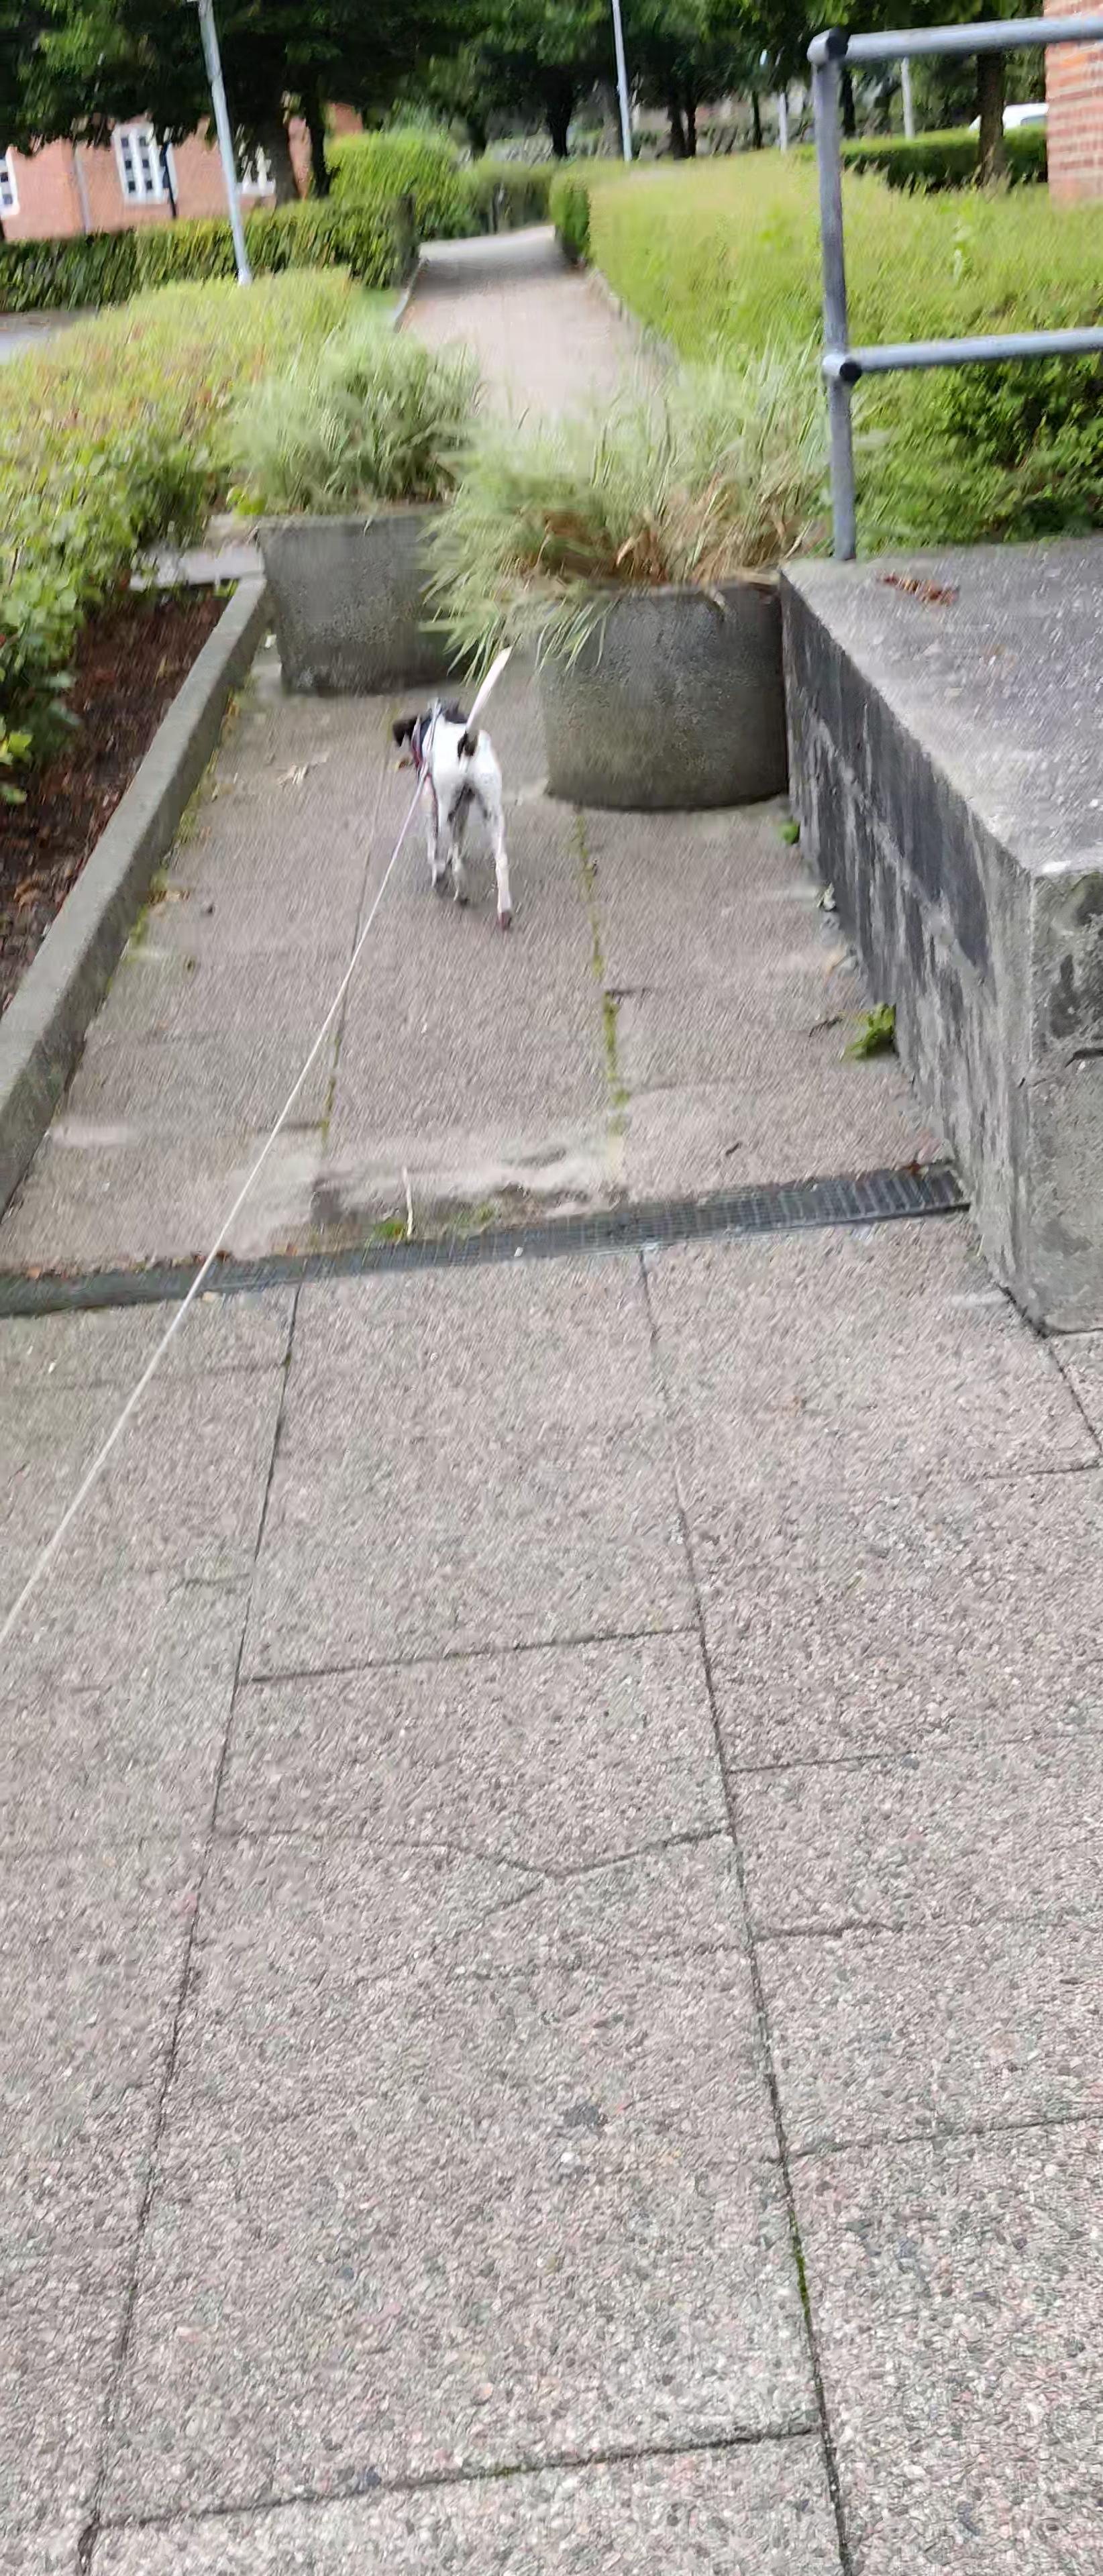Dog: (388, 639, 528, 933)
